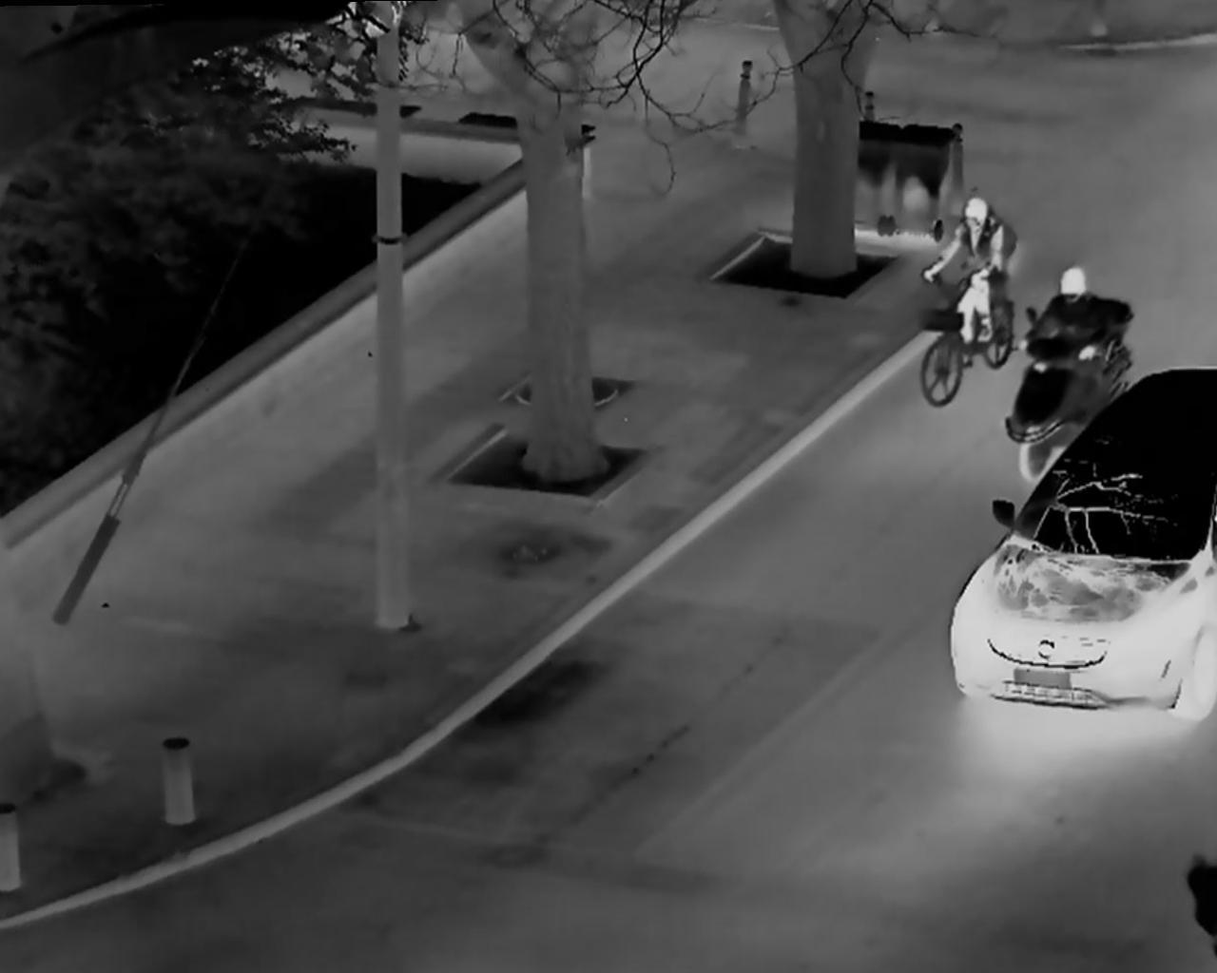person: (915, 184, 1024, 399), (1023, 241, 1112, 431)
